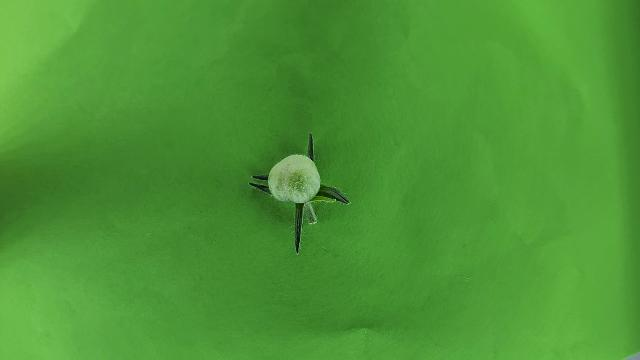Fruit Maturation: (267, 152, 324, 210)
